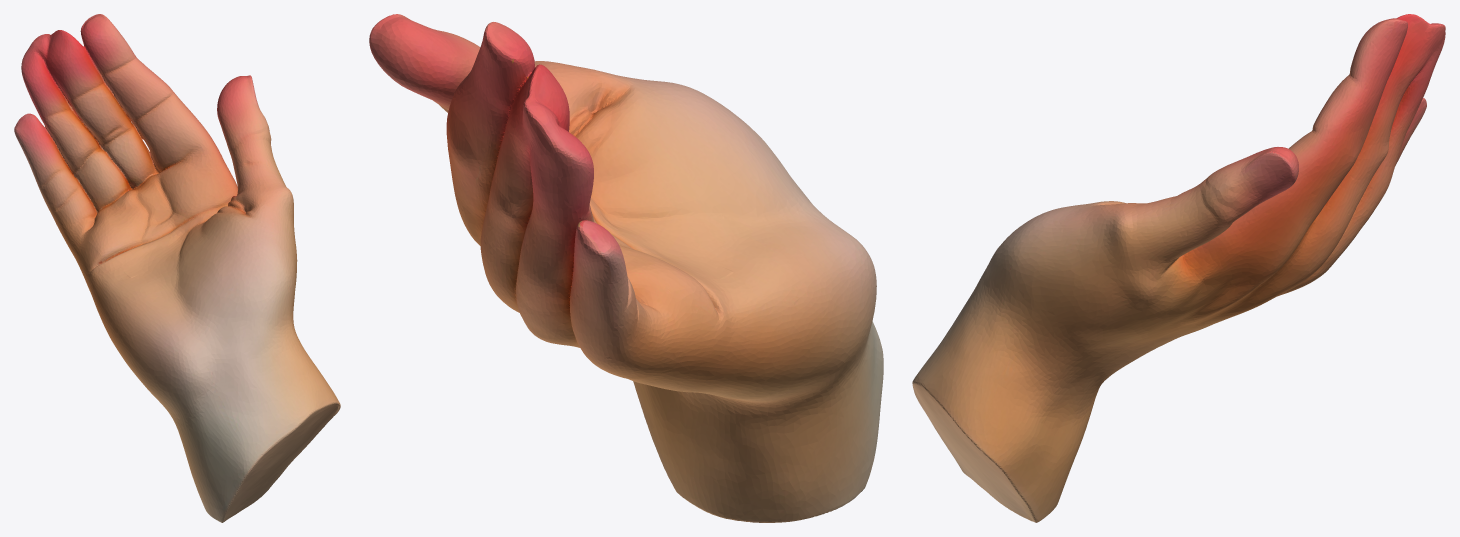
File: garak_hand.glb
The picture shows the model from 3 angles, left to right: view 1: azimuth 30°, elevation 25°; view 2: azimuth 150°, elevation 25°; view 3: azimuth 270°, elevation 25°; orthographic projection. The views are drawn at different scales.
Parts seen in each view (by area): view 1: garak_hand.obj; view 2: garak_hand.obj; view 3: garak_hand.obj.
Boxes of the visible parts, left/top/right/bottom form: garak_hand.obj: left=14, top=14, right=340, bottom=522; garak_hand.obj: left=369, top=14, right=883, bottom=522; garak_hand.obj: left=912, top=14, right=1445, bottom=522.
Bounding box in the file's own units: 1.06 × 1.97 × 1.97.
Materials: 1 (1 with a texture image).
